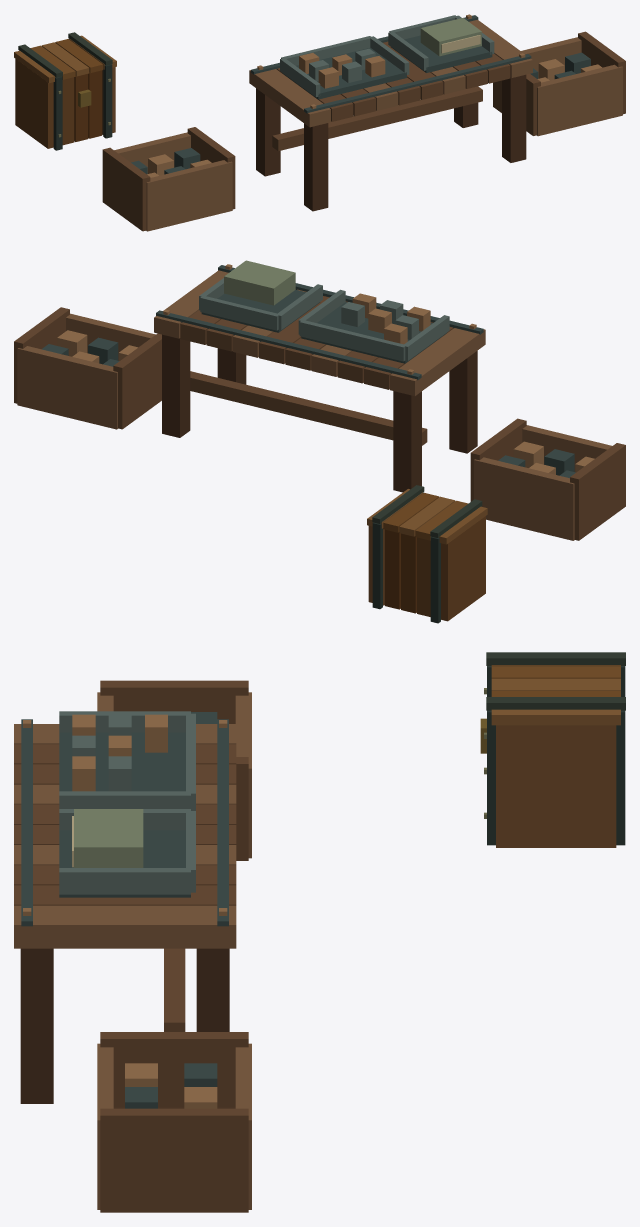
The model's file is B27_recycle.glb.
3 views of the same model, one above another, from view 1: azimuth 30°, elevation 25°; view 2: azimuth 150°, elevation 25°; view 3: azimuth 270°, elevation 25° (orthographic). The views are drawn at different scales.
Visible parts, largest first — view 1: B27_recycle__stock_reuse_Prop_Crate_NW_01, B27_recycle__main_station_TableLegs_wooddark, B27_recycle__incoming_BinSide_woodlight, B27_recycle__sorted_BinSide_woodlight, B27_recycle__main_station_TableTop_woodlight, B27_recycle__incoming_BinSide_wood, B27_recycle__main_station_TrayRim_edge, B27_recycle__main_station_TableTop_wood, B27_recycle__main_station_TableRail_wood, B27_recycle__main_station_Tray_iron, B27_recycle__sorted_BinSide_wood, B27_recycle__main_station_TableBands_iron (+8 smaller); view 2: B27_recycle__stock_reuse_Prop_Crate_NW_01, B27_recycle__main_station_TableLegs_wooddark, B27_recycle__sorted_BinSide_woodlight, B27_recycle__incoming_BinSide_woodlight, B27_recycle__main_station_TrayRim_edge, B27_recycle__main_station_TableTop_woodlight, B27_recycle__incoming_BinSide_wood, B27_recycle__sorted_BinSide_wood, B27_recycle__main_station_TableTop_wood, B27_recycle__main_station_TableRail_wood, B27_recycle__main_station_TableBands_iron, B27_recycle__main_station_BookCover_cloth (+7 smaller); view 3: B27_recycle__stock_reuse_Prop_Crate_NW_01, B27_recycle__sorted_BinSide_wood, B27_recycle__main_station_TableTop_woodlight, B27_recycle__main_station_TrayRim_edge, B27_recycle__main_station_TableTop_wood, B27_recycle__main_station_TableLegs_wooddark, B27_recycle__main_station_Tray_iron, B27_recycle__incoming_BinSide_wood, B27_recycle__main_station_TableBands_iron, B27_recycle__main_station_BookCover_cloth, B27_recycle__sorted_BinSide_woodlight, B27_recycle__main_station_Scrap_copper (+5 smaller).
Boxes of the visible parts, left/top/right/bottom form: B27_recycle__stock_reuse_Prop_Crate_NW_01: left=14, top=32, right=116, bottom=150; B27_recycle__main_station_TableLegs_wooddark: left=256, top=74, right=526, bottom=211; B27_recycle__incoming_BinSide_woodlight: left=114, top=132, right=232, bottom=231; B27_recycle__sorted_BinSide_woodlight: left=521, top=37, right=622, bottom=136; B27_recycle__main_station_TableTop_woodlight: left=249, top=19, right=532, bottom=127; B27_recycle__incoming_BinSide_wood: left=102, top=127, right=235, bottom=231; B27_recycle__main_station_TrayRim_edge: left=280, top=15, right=494, bottom=97; B27_recycle__main_station_TableTop_wood: left=277, top=41, right=510, bottom=121; B27_recycle__main_station_TableRail_wood: left=272, top=86, right=482, bottom=151; B27_recycle__main_station_Tray_iron: left=282, top=35, right=492, bottom=99; B27_recycle__sorted_BinSide_wood: left=493, top=31, right=625, bottom=135; B27_recycle__main_station_TableBands_iron: left=251, top=15, right=531, bottom=113; B27_recycle__stock_reuse_Prop_Crate_NW_01: left=367, top=485, right=487, bottom=623; B27_recycle__main_station_TableLegs_wooddark: left=162, top=334, right=477, bottom=492; B27_recycle__sorted_BinSide_woodlight: left=17, top=313, right=155, bottom=429; B27_recycle__incoming_BinSide_woodlight: left=474, top=425, right=611, bottom=540; B27_recycle__main_station_TrayRim_edge: left=199, top=278, right=449, bottom=361; B27_recycle__main_station_TableTop_woodlight: left=154, top=270, right=485, bottom=396; B27_recycle__incoming_BinSide_wood: left=470, top=418, right=625, bottom=540; B27_recycle__sorted_BinSide_wood: left=14, top=307, right=161, bottom=429; B27_recycle__main_station_TableTop_wood: left=180, top=296, right=453, bottom=389; B27_recycle__main_station_TableRail_wood: left=190, top=371, right=427, bottom=445; B27_recycle__main_station_TableBands_iron: left=156, top=265, right=483, bottom=380; B27_recycle__main_station_BookCover_cloth: left=224, top=260, right=295, bottom=305; B27_recycle__stock_reuse_Prop_Crate_NW_01: left=480, top=652, right=625, bottom=847; B27_recycle__sorted_BinSide_wood: left=100, top=1032, right=248, bottom=1212; B27_recycle__main_station_TableTop_woodlight: left=14, top=724, right=236, bottom=948; B27_recycle__main_station_TrayRim_edge: left=59, top=711, right=195, bottom=894; B27_recycle__main_station_TableTop_wood: left=14, top=744, right=236, bottom=905; B27_recycle__main_station_TableLegs_wooddark: left=20, top=948, right=229, bottom=1103; B27_recycle__main_station_Tray_iron: left=59, top=732, right=190, bottom=897; B27_recycle__incoming_BinSide_wood: left=100, top=680, right=248, bottom=860; B27_recycle__main_station_TableBands_iron: left=21, top=719, right=228, bottom=926; B27_recycle__main_station_BookCover_cloth: left=74, top=809, right=143, bottom=867; B27_recycle__sorted_BinSide_woodlight: left=97, top=1043, right=251, bottom=1209; B27_recycle__main_station_Scrap_copper: left=72, top=714, right=167, bottom=791.
Bounding box in the file's own units: 6.25 × 1.54 × 3.72.
